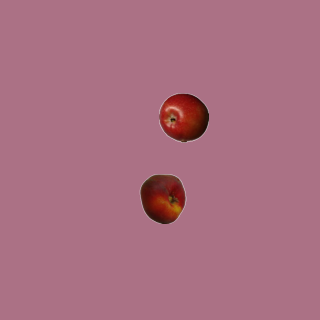Apple Braeburn: (158, 92, 208, 142)
Nectarine Flat: (137, 173, 187, 223)
